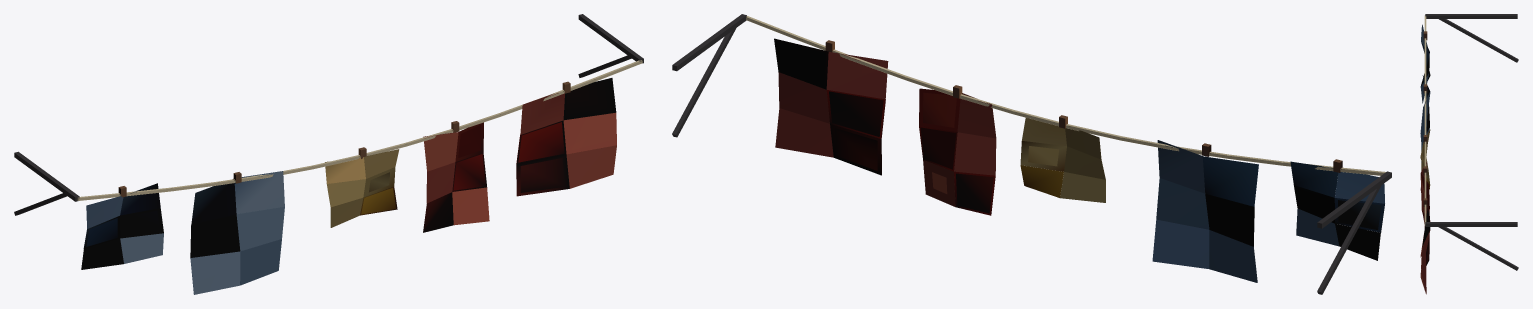
Rendered from tendedero.glb.
3 views of the same model, side by side, from view 1: azimuth 30°, elevation 25°; view 2: azimuth 150°, elevation 25°; view 3: azimuth 270°, elevation 25° (orthographic). The views are drawn at different scales.
Visible parts, largest first — view 1: tendedero_piezas, tendedero_fijo; view 2: tendedero_piezas, tendedero_fijo; view 3: tendedero_fijo, tendedero_piezas.
Part boxes in pixels (<box>): tendedero_piezas: <box>81,78,616,294</box>; tendedero_fijo: <box>14,14,643,215</box>; tendedero_piezas: <box>774,38,1384,282</box>; tendedero_fijo: <box>672,14,1391,294</box>; tendedero_fijo: <box>1424,14,1518,270</box>; tendedero_piezas: <box>1420,24,1430,294</box>.
Bounding box in the file's own units: 4.03 × 0.8527 × 0.798.
